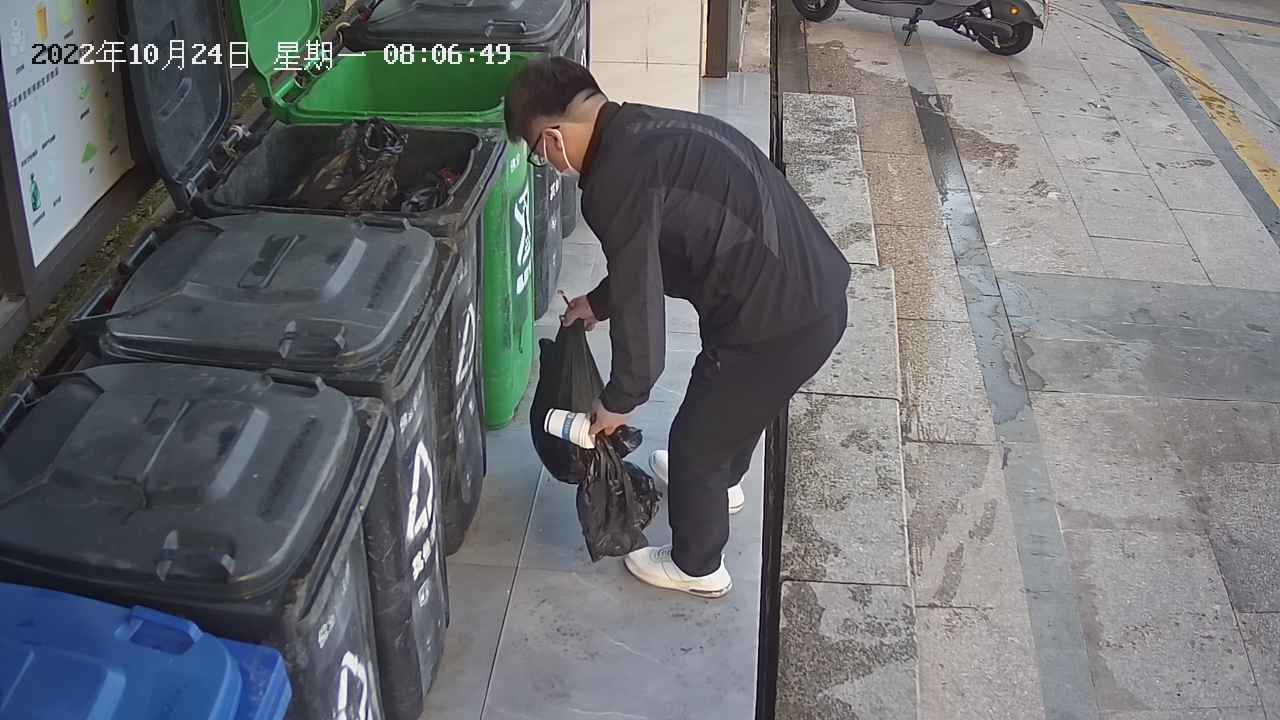garbage-bag: (525, 306, 644, 485), (570, 429, 664, 570)
person: (494, 46, 856, 601)
zhizhipin: (541, 403, 601, 453)
